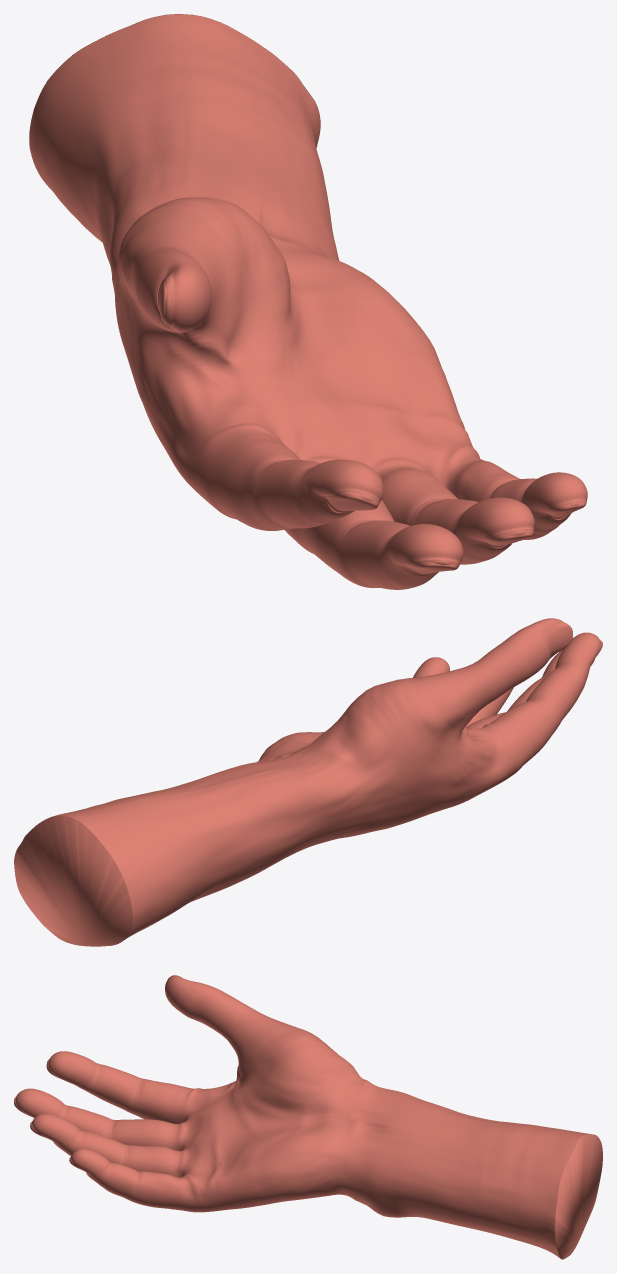
Rendered from RiggedHand.fbx.
3 renders of one model, top to bottom at view 1: azimuth 30°, elevation 25°; view 2: azimuth 150°, elevation 25°; view 3: azimuth 270°, elevation 25°, orthographic. The views are drawn at different scales.
Parts seen in each view (by area): view 1: Hand.R; view 2: Hand.R; view 3: Hand.R.
Boxes of the visible parts, <box> form: Hand.R: <box>29,14,587,589</box>; Hand.R: <box>14,618,602,946</box>; Hand.R: <box>14,975,602,1259</box>.
Size of the model in its own units: 72.9 by 44.72 by 137.
